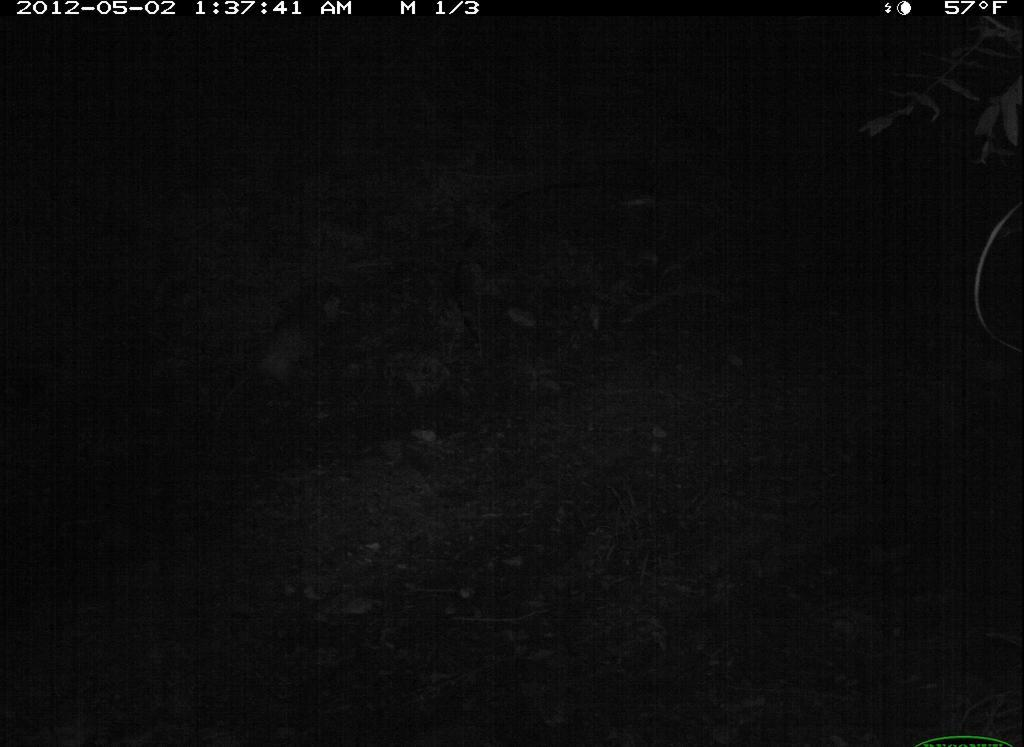opossum: (198, 280, 401, 442)
